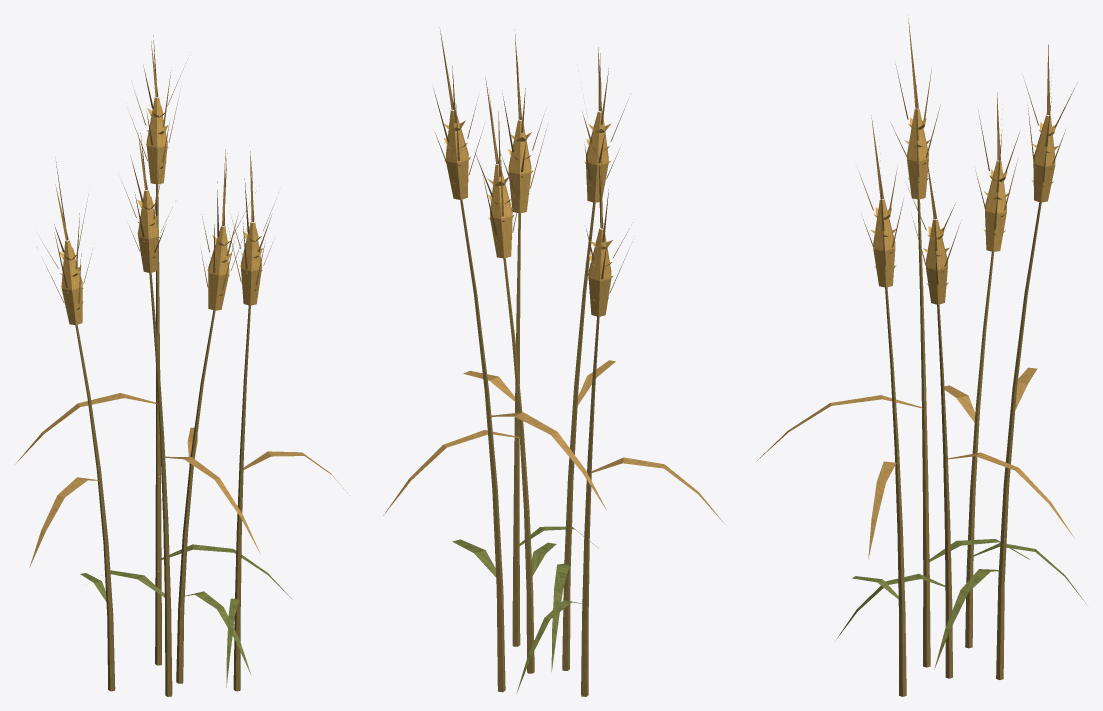
File: Wheat_Cluster_A.glb
3 views of the same model, side by side, from view 1: azimuth 30°, elevation 25°; view 2: azimuth 150°, elevation 25°; view 3: azimuth 270°, elevation 25° (orthographic). The views are drawn at different scales.
Visible parts, largest first — view 1: world; view 2: world; view 3: world.
Boxes of the visible parts, x1,y1,x2,y2 form: world: (14, 35, 349, 696); world: (383, 27, 725, 696); world: (756, 18, 1087, 696).
Size of the model in its own units: 1 by 1.99 by 0.9181.
1 material, 1 textured.
